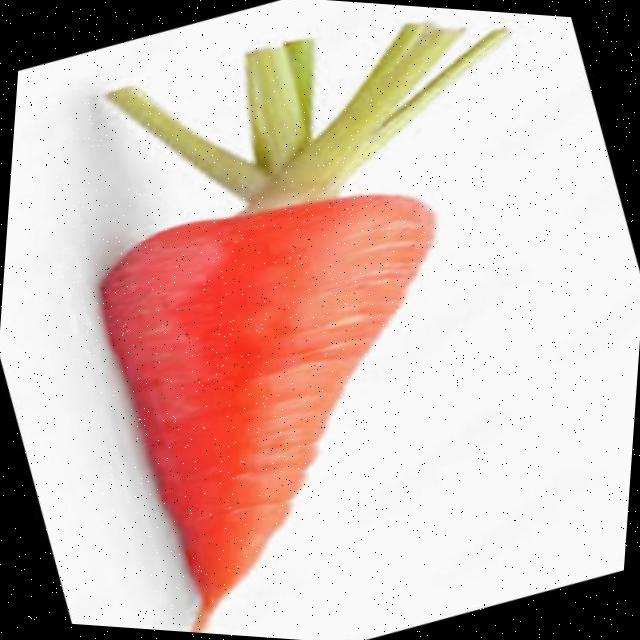carrot: (102, 23, 506, 632)
